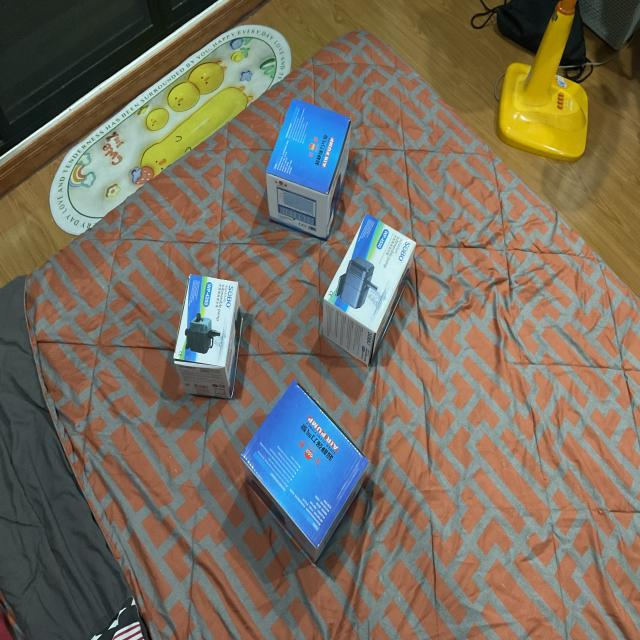SOBO_WP_4200: (322, 212, 434, 378), (168, 260, 252, 406)
YAMANO_LPP_20: (236, 377, 382, 580), (260, 80, 365, 249)
